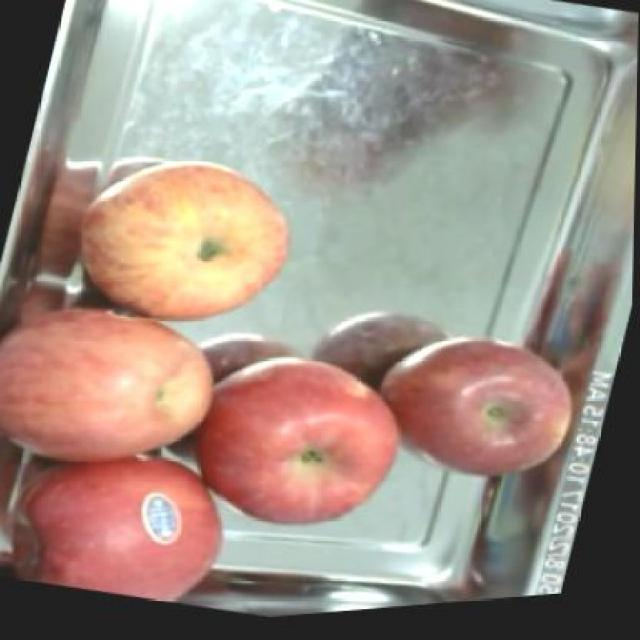Fresh Apple: (74, 160, 286, 325), (0, 312, 211, 458), (31, 448, 220, 609), (382, 334, 568, 481), (212, 368, 383, 518)
